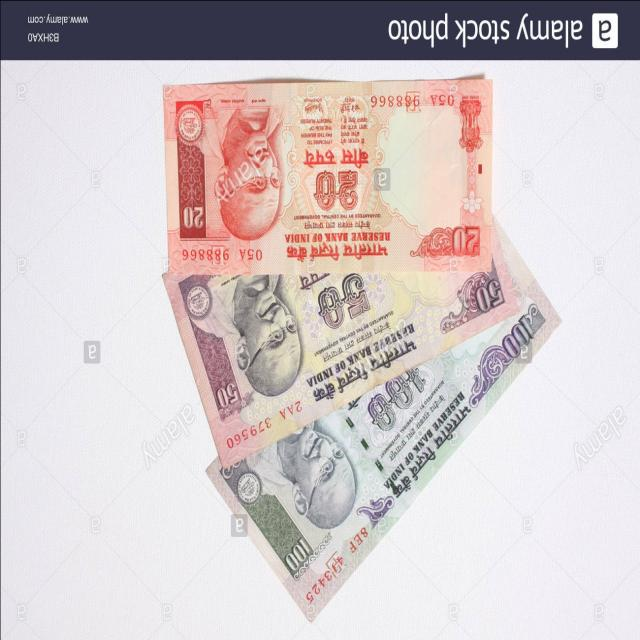20IndianRupees: (165, 78, 496, 281)
